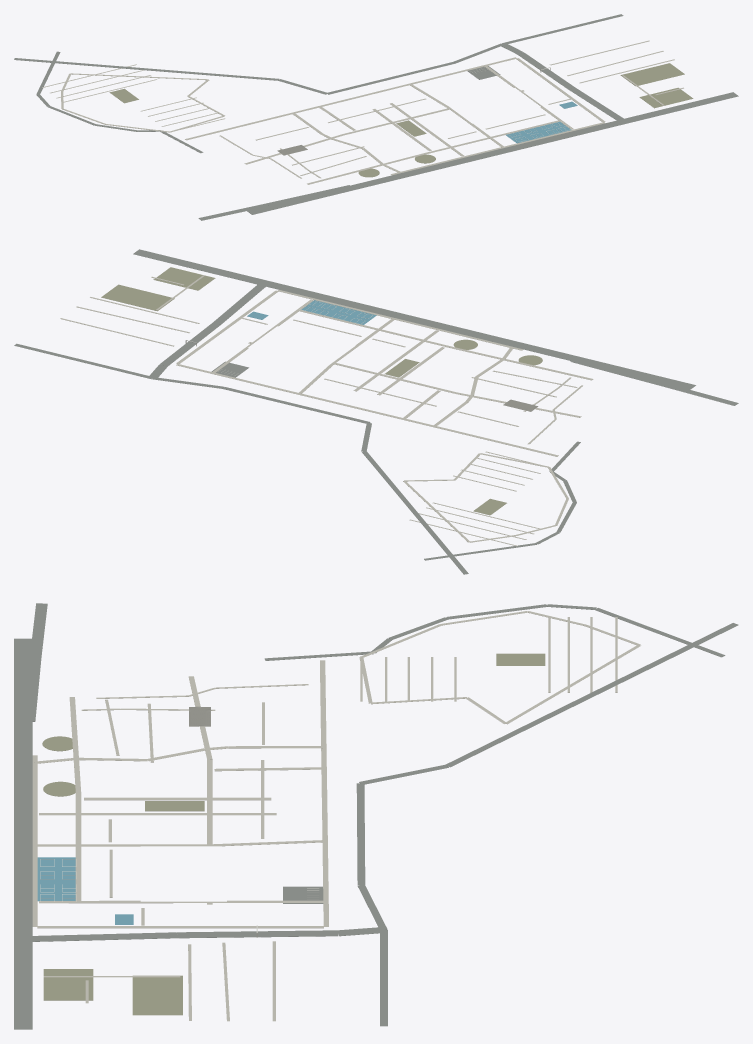
File: shared-00-medium-photo.glb
3 views of the same model, one above another, from view 1: azimuth 30°, elevation 25°; view 2: azimuth 150°, elevation 25°; view 3: azimuth 270°, elevation 25° (orthographic). The views are drawn at different scales.
Visible parts, largest first — view 1: 邯郸路.001, Campus east west road.008, 东区草坪.001, 北侧边界道路.005, 室外球场.001, 新闻学院庭院.001, Campus east west road.015, 国定路.004, 北侧边界道路.007, 国定路.003, 北侧边界道路.009; view 2: 邯郸路.001, 东区草坪.001, Campus east west road.008, 室外球场.001, 北侧边界道路.005, 新闻学院庭院.001, Campus east west road.015; view 3: 邯郸路.001, 东区草坪.001, 室外球场.001, 北侧边界道路.005, Campus east west road.008, 新闻学院庭院.001, 国定路.004, 国定路.003, Campus east west road.015, Campus north south road.023, Campus north south road.022, 北侧边界道路.007 (+4 smaller).
Part boxes in pixels (x1,y1,x2,y2): 邯郸路.001: [247, 92, 738, 214]; Campus east west road.008: [185, 57, 516, 140]; 东区草坪.001: [620, 63, 684, 86]; 北侧边界道路.005: [14, 58, 279, 80]; 室外球场.001: [506, 121, 571, 143]; 新闻学院庭院.001: [639, 87, 693, 108]; Campus east west road.015: [390, 122, 605, 175]; 国定路.004: [517, 52, 574, 89]; 北侧边界道路.007: [327, 62, 454, 94]; 国定路.003: [568, 87, 626, 122]; 北侧边界道路.009: [502, 14, 623, 43]; 邯郸路.001: [133, 249, 695, 389]; 东区草坪.001: [101, 284, 174, 311]; Campus east west road.008: [176, 364, 558, 456]; 室外球场.001: [301, 300, 376, 324]; 北侧边界道路.005: [361, 451, 468, 574]; 新闻学院庭院.001: [153, 267, 215, 290]; Campus east west road.015: [277, 290, 523, 350]; 邯郸路.001: [14, 638, 32, 1029]; 东区草坪.001: [132, 975, 182, 1015]; 室外球场.001: [37, 857, 75, 901]; 北侧边界道路.005: [445, 623, 738, 767]; Campus east west road.008: [320, 660, 328, 926]; 新闻学院庭院.001: [43, 969, 93, 1000]; 国定路.004: [177, 930, 338, 938]; 国定路.003: [23, 932, 177, 941]; Campus east west road.015: [32, 755, 37, 926]; Campus north south road.023: [37, 926, 323, 928]; Campus north south road.022: [39, 900, 326, 903]; 北侧边界道路.007: [356, 783, 365, 885].
Size of what is drawn, in the model's own units: 1038 by 5.46 by 746.
Materials: 10 (1 with a texture image).
